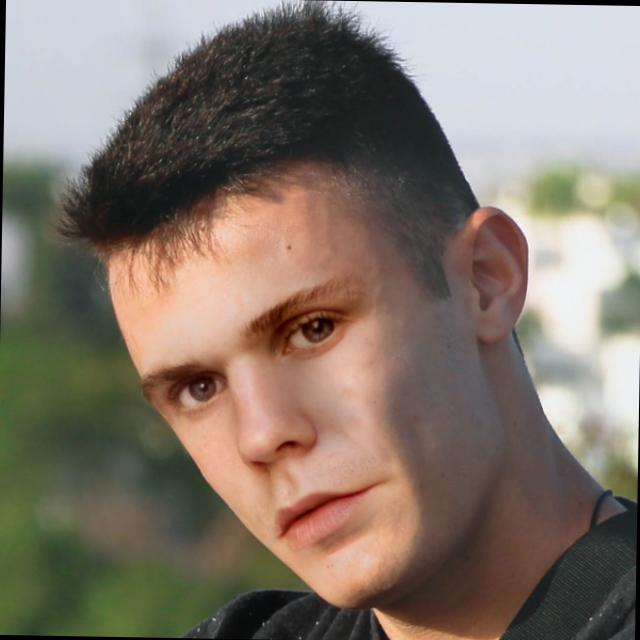face: (89, 220, 552, 598)
